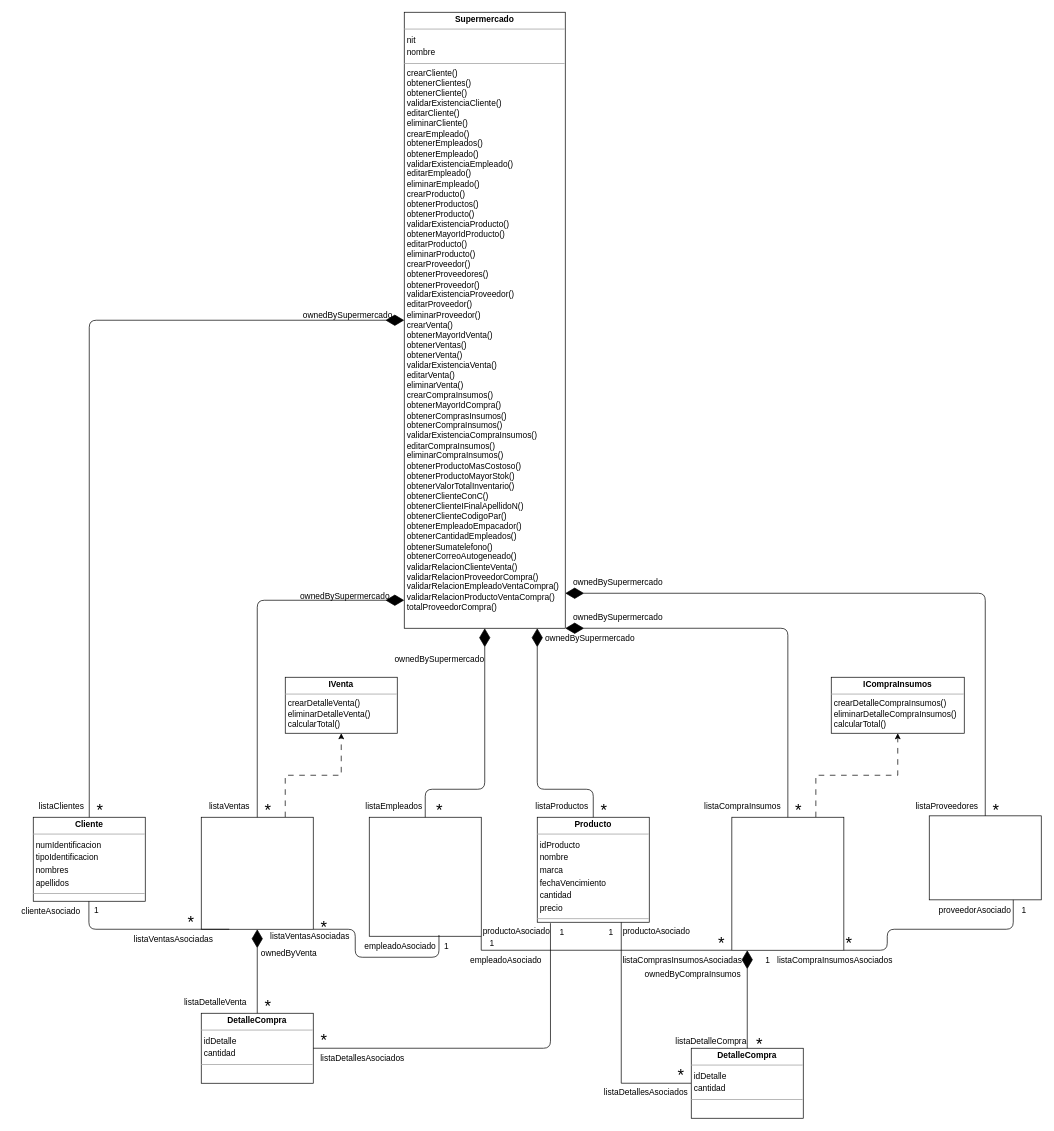
The diagram is 1054 pixels wide and 1131 high, and some of its shapes have lost their labels. Each missing label, with the box of its shape:
CompraInsumos idCompra fechaCompra totalventa: (731, 817, 844, 950)
Empleado numIdentificacion nombres apellidos rol fechaNacimiento telefono: (369, 817, 481, 936)
Proveedor numIdentificacion nombre telefono: (929, 815, 1041, 900)
Venta idVenta fechaVenta totalVenta: (201, 817, 313, 929)
